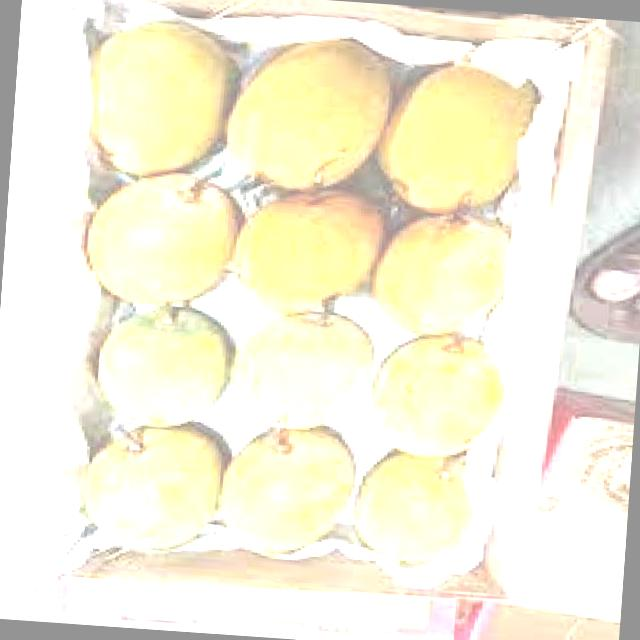Mango: (224, 28, 399, 200), (82, 13, 240, 184), (376, 60, 536, 222), (79, 162, 246, 308), (232, 180, 386, 317), (78, 418, 227, 552), (220, 418, 360, 558), (372, 205, 516, 341), (223, 307, 378, 429), (369, 335, 513, 462), (95, 299, 238, 426), (350, 451, 480, 563)
